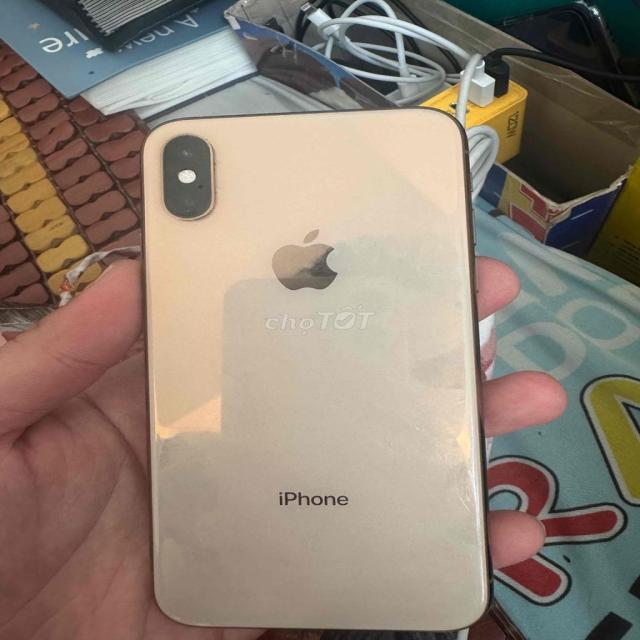gen_x_xs: (140, 103, 496, 629)
scratch: (204, 142, 227, 208), (446, 478, 474, 513), (164, 606, 213, 626), (412, 418, 429, 441), (176, 134, 204, 140)
